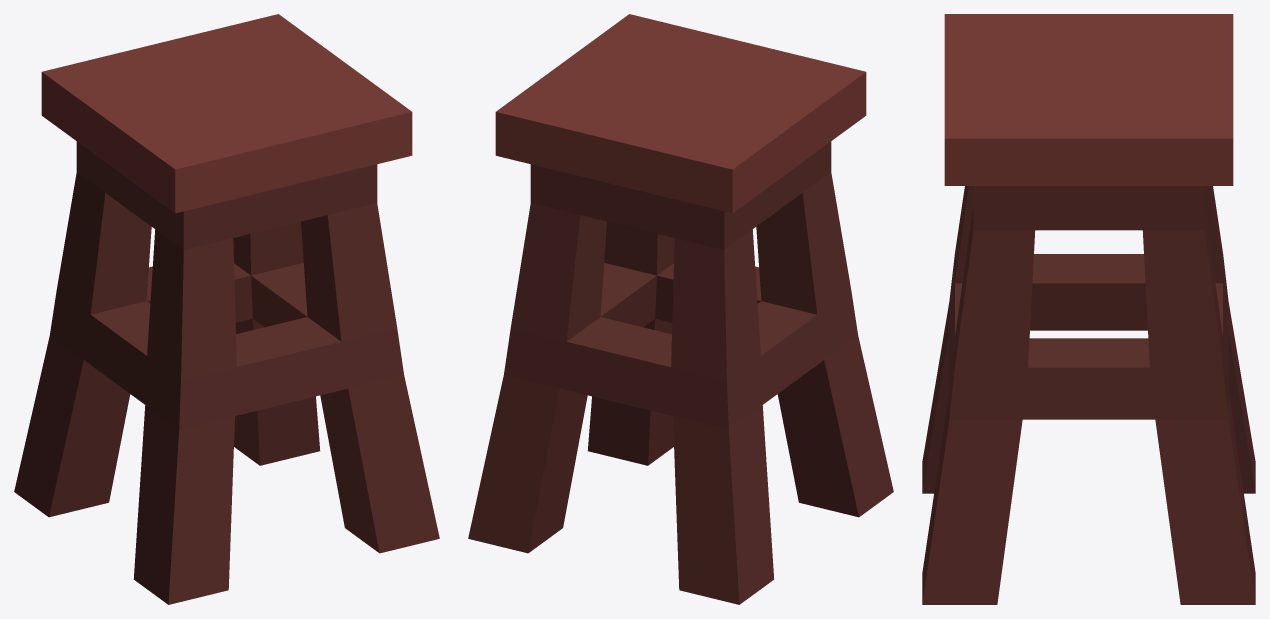
Rendered from Stool.glb.
3 views of the same model, side by side, from view 1: azimuth 30°, elevation 25°; view 2: azimuth 150°, elevation 25°; view 3: azimuth 270°, elevation 25° (orthographic). The views are drawn at different scales.
Parts seen in each view (by area): view 1: Stool; view 2: Stool; view 3: Stool.
Part boxes in pixels (x1=…): Stool: x1=14, y1=14, x2=439, y2=604; Stool: x1=468, y1=14, x2=893, y2=604; Stool: x1=922, y1=14, x2=1255, y2=604.
Size of the model in its own units: 0.3663 by 0.5463 by 0.361.
